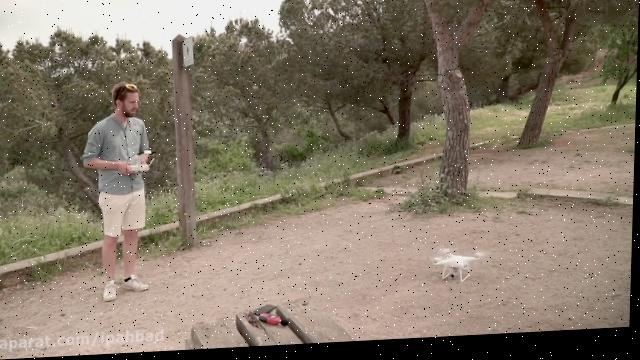drone: (431, 249, 491, 289)
